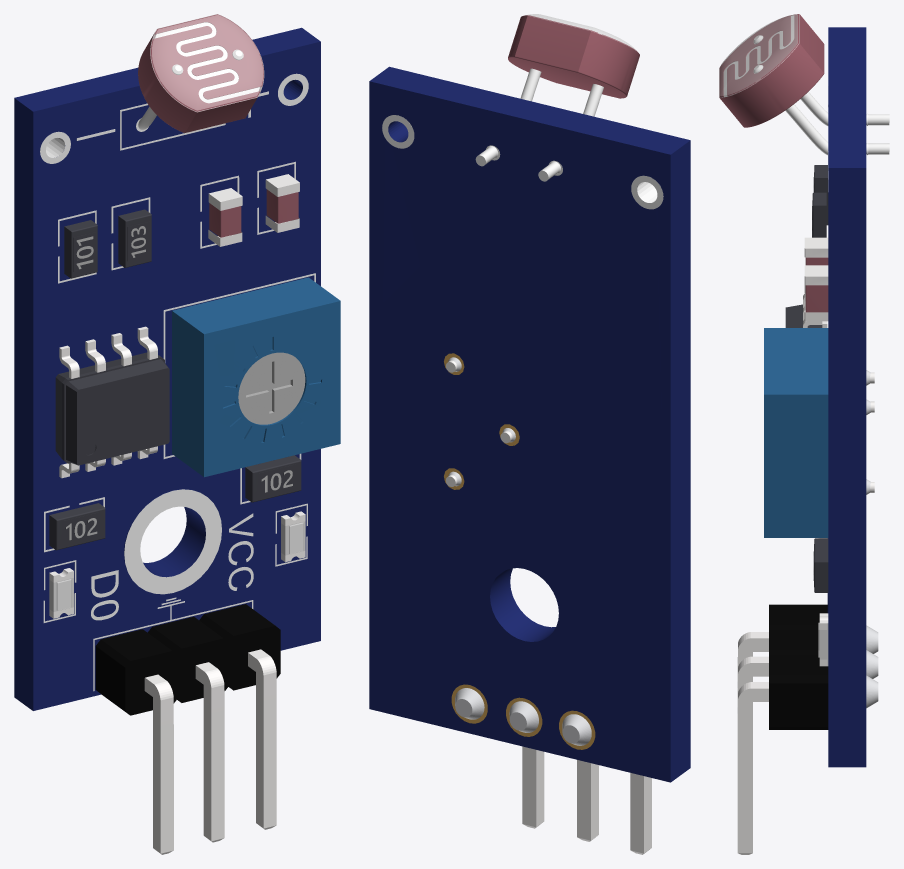
File: modulo_ldr.glb
3 views of the same model, side by side, from view 1: azimuth 30°, elevation 25°; view 2: azimuth 150°, elevation 25°; view 3: azimuth 270°, elevation 25° (orthographic). The views are drawn at different scales.
Visible parts, largest first — view 1: placaPCB_002-material, azul_controle_001-material, chip_preto_003-material, metal_aluminio_002-material, plastico_preto_003-material, chip_marron_002-material, Material_012-material, METAL_001-material, Material_013-material, braco_plastico_001-material, led_metal_002-material, Plastico_branco_002-material; view 2: placaPCB_002-material, chip_marron_002-material, metal_aluminio_002-material, metal_parafuso_002-material, trilha_cobre_002-material, METAL_001-material, material_0-material; view 3: placaPCB_002-material, azul_controle_001-material, chip_marron_002-material, plastico_preto_003-material, metal_aluminio_002-material, Material_012-material, chip_preto_003-material, material_0-material, metal_parafuso_002-material, METAL_001-material.
Part boxes in pixels (box(x1,y1,x2,y2)): placaPCB_002-material: box(14, 27, 320, 710); azul_controle_001-material: box(172, 277, 340, 477); chip_preto_003-material: box(49, 209, 301, 550); metal_aluminio_002-material: box(49, 174, 305, 854); plastico_preto_003-material: box(95, 604, 280, 715); chip_marron_002-material: box(138, 14, 298, 237); Material_012-material: box(150, 14, 264, 112); METAL_001-material: box(40, 22, 308, 594); Material_013-material: box(43, 91, 315, 691); braco_plastico_001-material: box(66, 226, 305, 540); led_metal_002-material: box(49, 511, 305, 615); Plastico_branco_002-material: box(56, 522, 303, 610); placaPCB_002-material: box(369, 66, 690, 782); chip_marron_002-material: box(508, 15, 639, 98); metal_aluminio_002-material: box(445, 360, 651, 854); metal_parafuso_002-material: box(448, 357, 591, 745); trilha_cobre_002-material: box(444, 353, 595, 749); METAL_001-material: box(382, 34, 663, 209); material_0-material: box(475, 68, 603, 181); placaPCB_002-material: box(827, 27, 866, 767); azul_controle_001-material: box(764, 328, 828, 537); chip_marron_002-material: box(719, 14, 828, 312); plastico_preto_003-material: box(769, 604, 828, 729); metal_aluminio_002-material: box(737, 237, 874, 854); Material_012-material: box(719, 14, 799, 97); chip_preto_003-material: box(785, 165, 828, 592); material_0-material: box(785, 91, 889, 155); metal_parafuso_002-material: box(866, 370, 878, 708); METAL_001-material: box(723, 15, 794, 96).
Size of the model in its own units: 0.0146 by 0.0389 by 0.0075.
